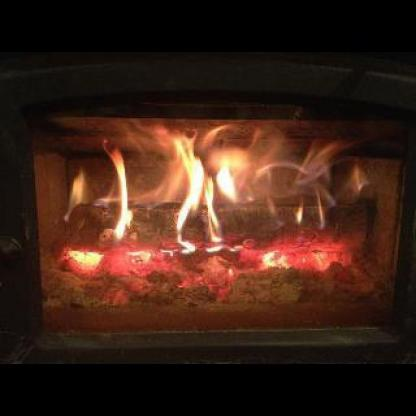fire: (57, 117, 363, 295)
